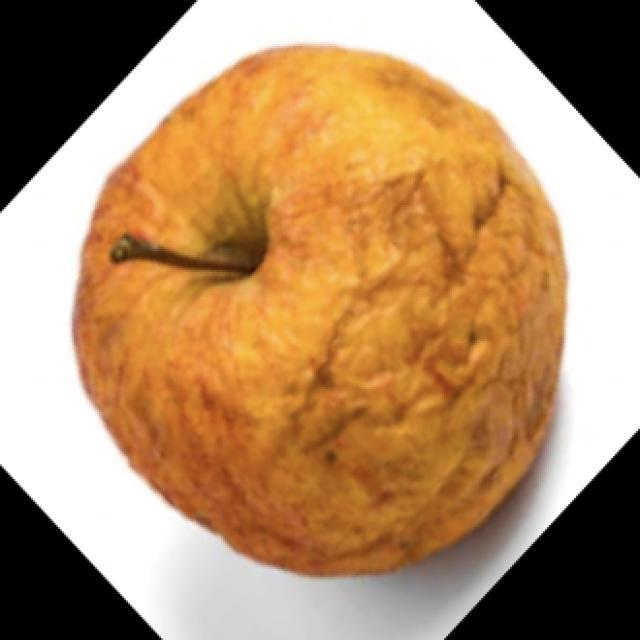Rotten: (74, 37, 588, 598)
